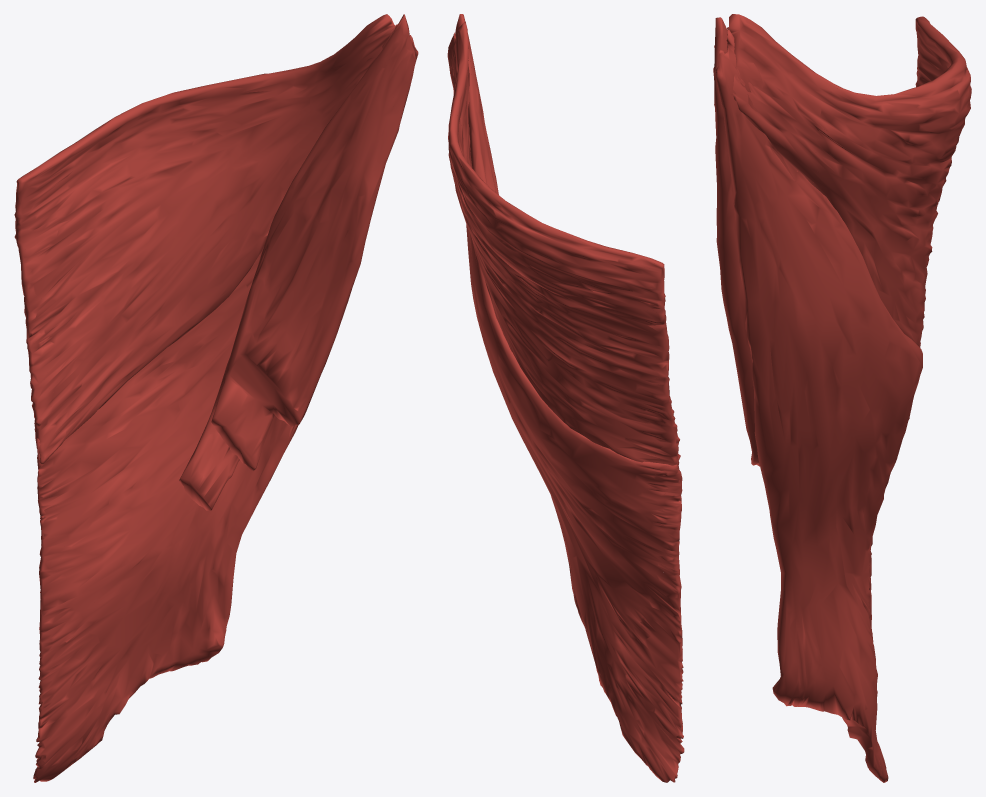
File: musculos-latissimus-dorsi-muscle-l.glb
3 views of the same model, side by side, from view 1: azimuth 30°, elevation 25°; view 2: azimuth 150°, elevation 25°; view 3: azimuth 270°, elevation 25° (orthographic). The views are drawn at different scales.
Visible parts, largest first — view 1: Latissimus dorsi muscle.l; view 2: Latissimus dorsi muscle.l; view 3: Latissimus dorsi muscle.l.
Part boxes in pixels (left/top/right/bottom): Latissimus dorsi muscle.l: left=14, top=14, right=418, bottom=782; Latissimus dorsi muscle.l: left=447, top=14, right=684, bottom=782; Latissimus dorsi muscle.l: left=713, top=14, right=971, bottom=782.
Bounding box in the file's own units: 0.1869 × 0.4104 × 0.1017.
